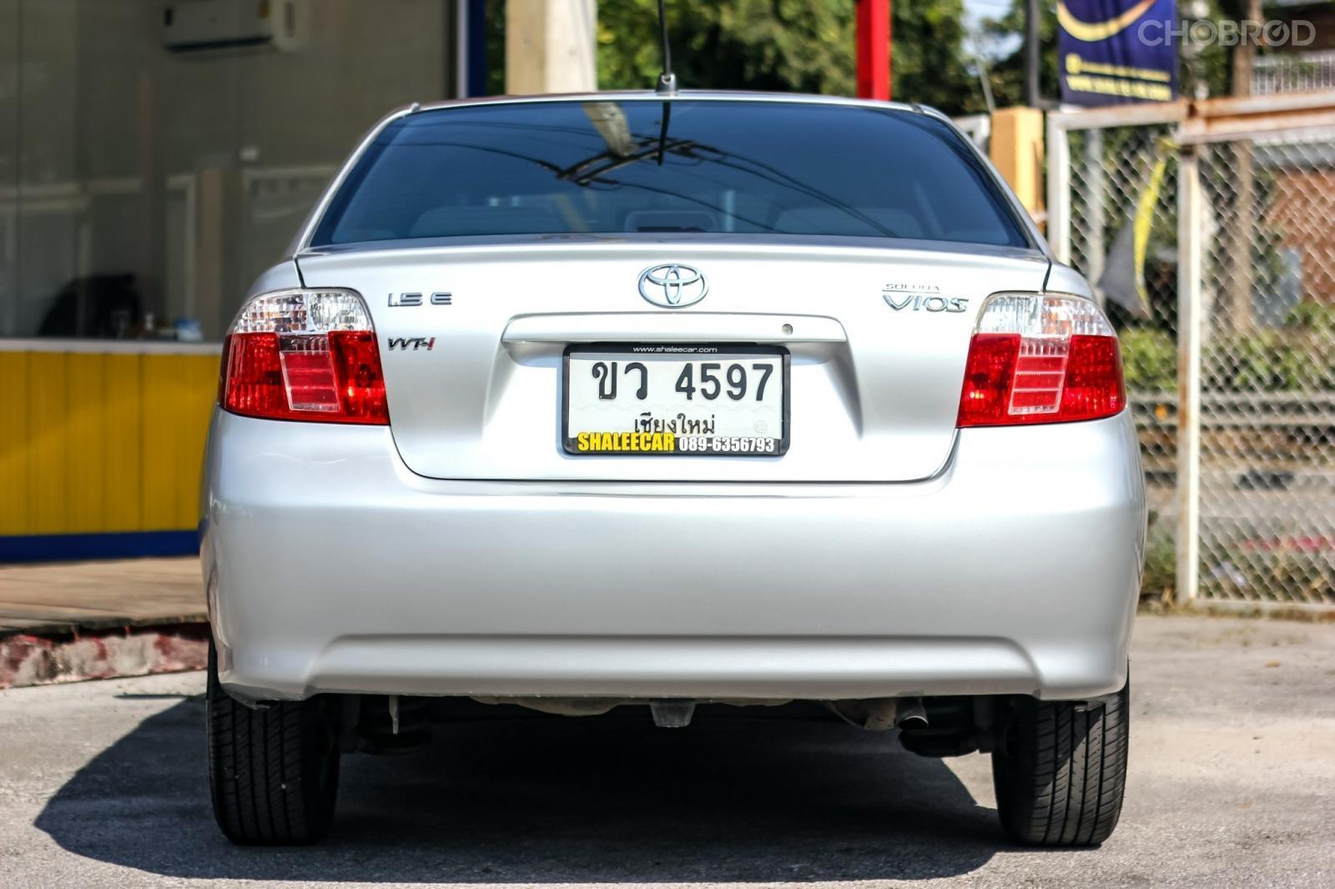license-plate: (551, 335, 798, 466)
